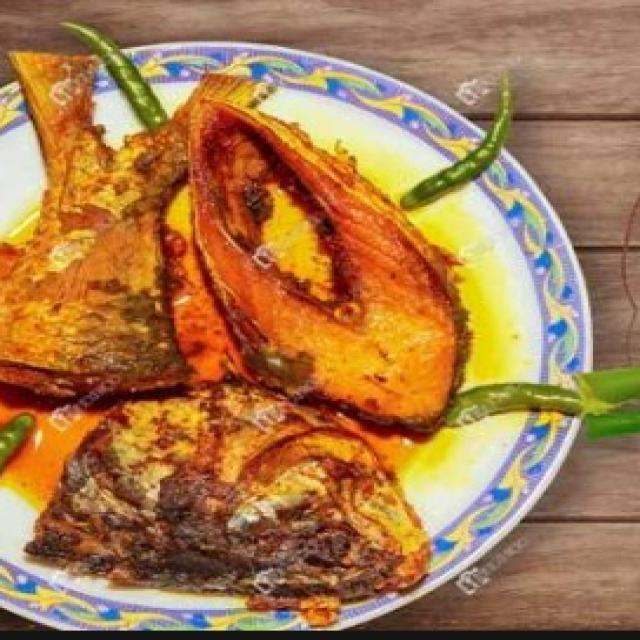FISH FRY: (0, 46, 509, 627)
